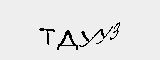Д: (57, 29, 80, 51)
З: (108, 20, 122, 44)
Т: (37, 27, 57, 46)
У: (95, 25, 112, 48), (81, 29, 98, 51)
